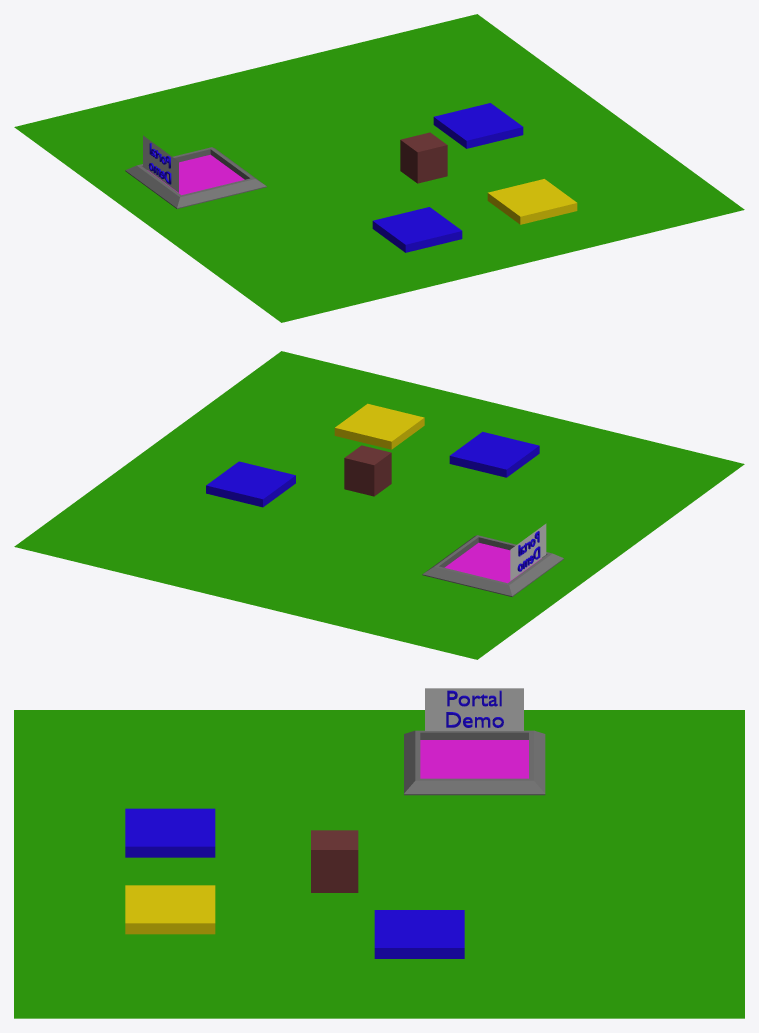
Rendered from devPlanet.glb.
3 renders of one model, top to bottom at view 1: azimuth 30°, elevation 25°; view 2: azimuth 150°, elevation 25°; view 3: azimuth 270°, elevation 25°, orthographic. The views are drawn at different scales.
Parts seen in each view (by area): view 1: Plane, Cube.005, _stm_launchpad_.002, _stm_stopTime_.001, _stm_startTime_.002, Cube, _stm_portal_0_.001, Plane.001; view 2: Plane, Cube.005, _stm_launchpad_.002, _stm_stopTime_.001, _stm_startTime_.002, Cube, _stm_portal_0_.001, Plane.001; view 3: Plane, Cube.005, _stm_stopTime_.001, _stm_launchpad_.002, _stm_startTime_.002, _stm_portal_0_.001, Plane.001, Cube, Text.001.
Part boxes in pixels (x1=…): Plane: x1=14, y1=14, x2=744, y2=322; Cube.005: x1=125, y1=147, x2=266, y2=208; _stm_launchpad_.002: x1=487, y1=179, x2=577, y2=224; _stm_stopTime_.001: x1=372, y1=207, x2=462, y2=252; _stm_startTime_.002: x1=433, y1=103, x2=523, y2=148; Cube: x1=400, y1=132, x2=447, y2=183; _stm_portal_0_.001: x1=147, y1=154, x2=244, y2=195; Plane.001: x1=143, y1=135, x2=178, y2=192; Plane: x1=14, y1=351, x2=744, y2=659; Cube.005: x1=422, y1=535, x2=563, y2=596; _stm_launchpad_.002: x1=334, y1=403, x2=424, y2=449; _stm_stopTime_.001: x1=449, y1=431, x2=539, y2=477; _stm_startTime_.002: x1=206, y1=461, x2=295, y2=507; Cube: x1=344, y1=445, x2=391, y2=496; _stm_portal_0_.001: x1=444, y1=542, x2=541, y2=583; Plane.001: x1=510, y1=523, x2=546, y2=580; Plane: x1=14, y1=710, x2=744, y2=1018; Cube.005: x1=404, y1=730, x2=545, y2=795; _stm_stopTime_.001: x1=125, y1=808, x2=215, y2=857; _stm_launchpad_.002: x1=125, y1=885, x2=215, y2=934; _stm_startTime_.002: x1=374, y1=910, x2=464, y2=958; _stm_portal_0_.001: x1=420, y1=740, x2=528, y2=778; Plane.001: x1=425, y1=688, x2=523, y2=730; Cube: x1=311, y1=830, x2=358, y2=892; Text.001: x1=446, y1=690, x2=503, y2=727.
Bounding box in the file's own units: 30.96 × 2.97 × 30.96.
